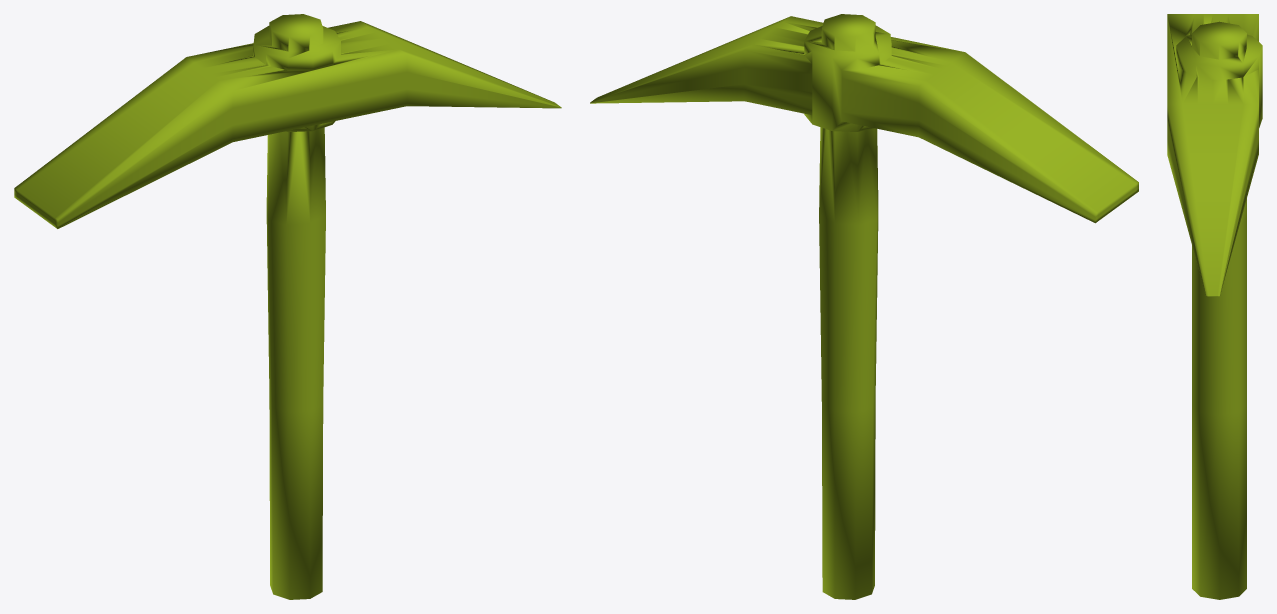
Rendered from кипка.obj.
The picture shows the model from 3 angles, left to right: view 1: azimuth 30°, elevation 25°; view 2: azimuth 150°, elevation 25°; view 3: azimuth 270°, elevation 25°; orthographic projection.
Parts seen in each view (by area): view 1: Cylinder001; view 2: Cylinder001; view 3: Cylinder001.
Boxes of the visible parts, x1,y1,x2,y2 form: Cylinder001: [14, 14, 561, 599]; Cylinder001: [590, 14, 1138, 599]; Cylinder001: [1167, 14, 1262, 599].
Size of the model in its own units: 152 by 156 by 24.38.
